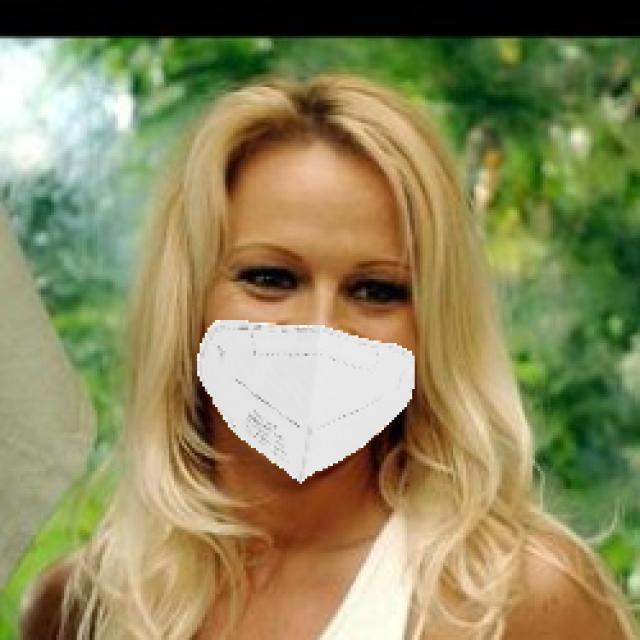mask: (188, 304, 422, 481)
